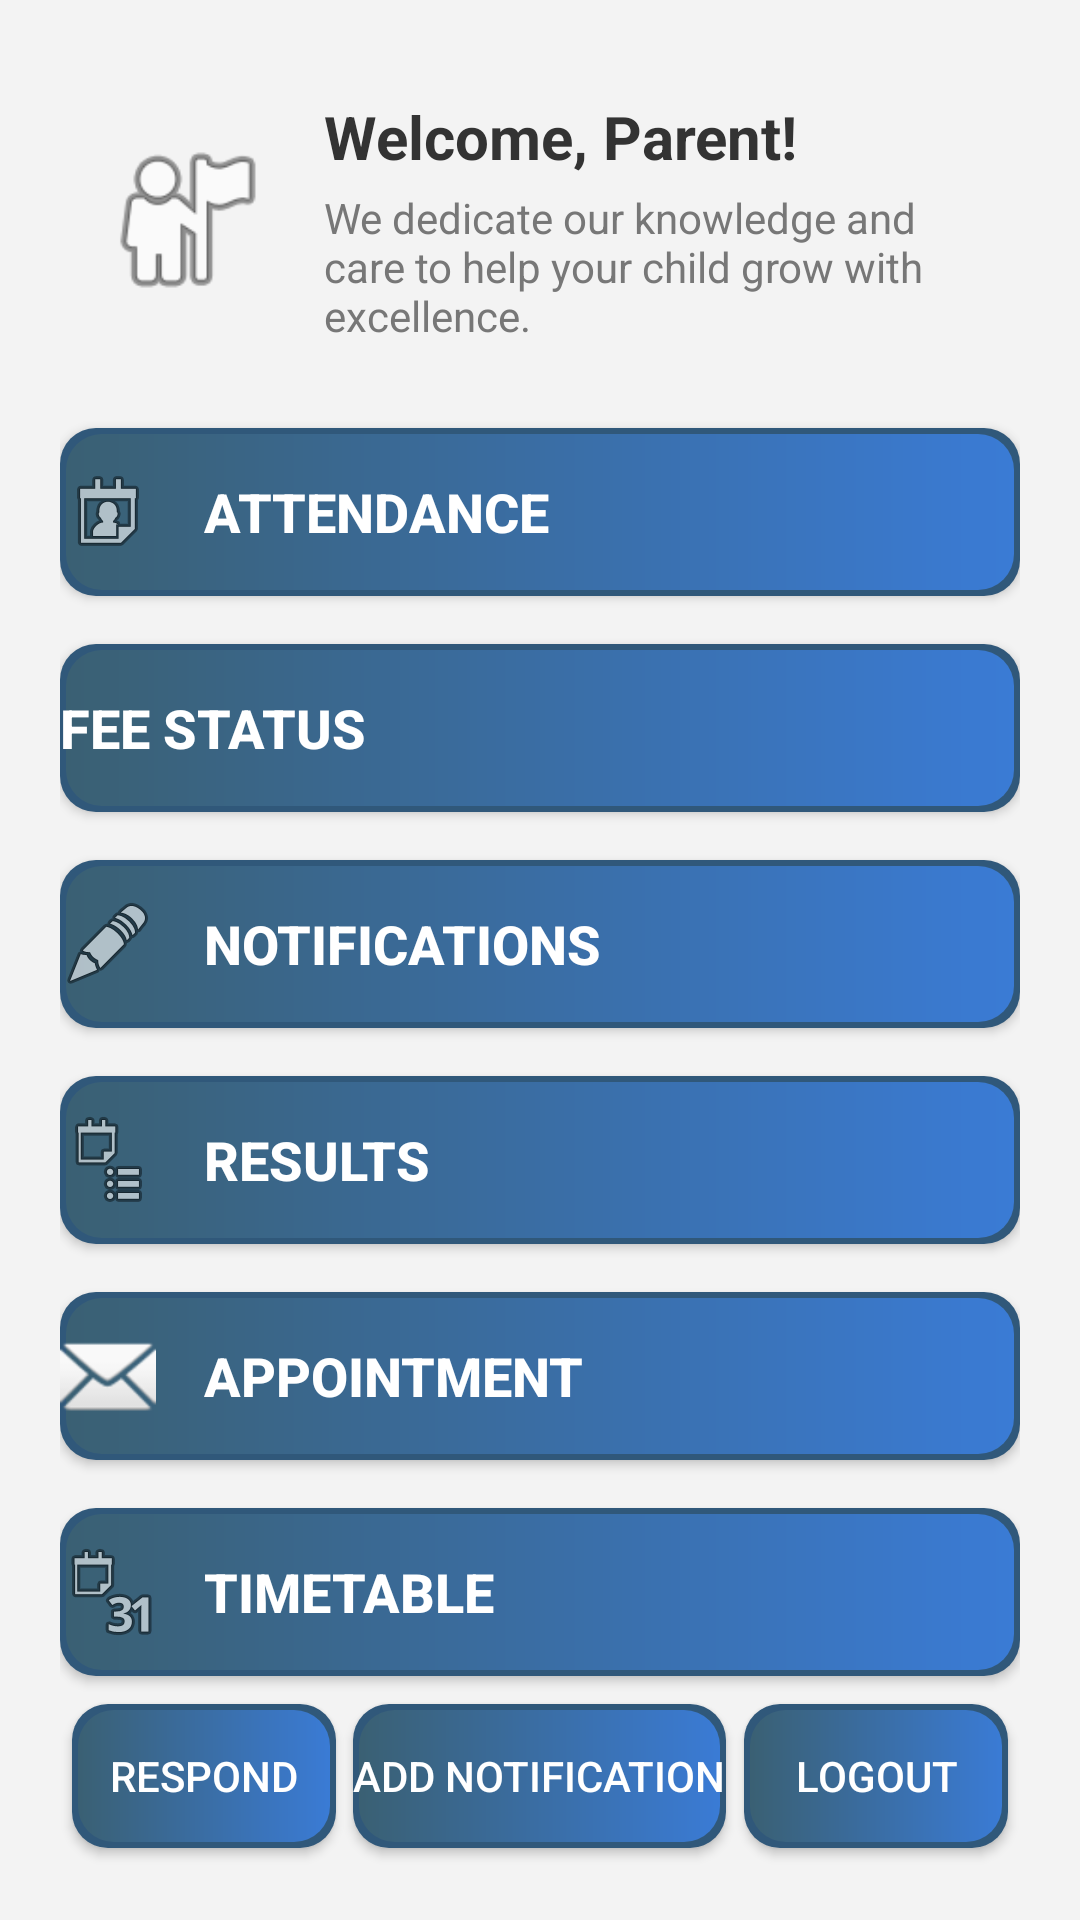

Where icons sit on this 1080px×1920px app screen, as [x1=x1, y1=y1, x2=x2, y2=y2]:
myplaces: [x1=120, y1=153, x2=256, y2=287]
